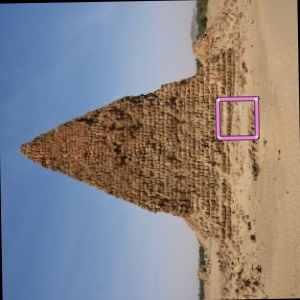square: (213, 95, 262, 142)
